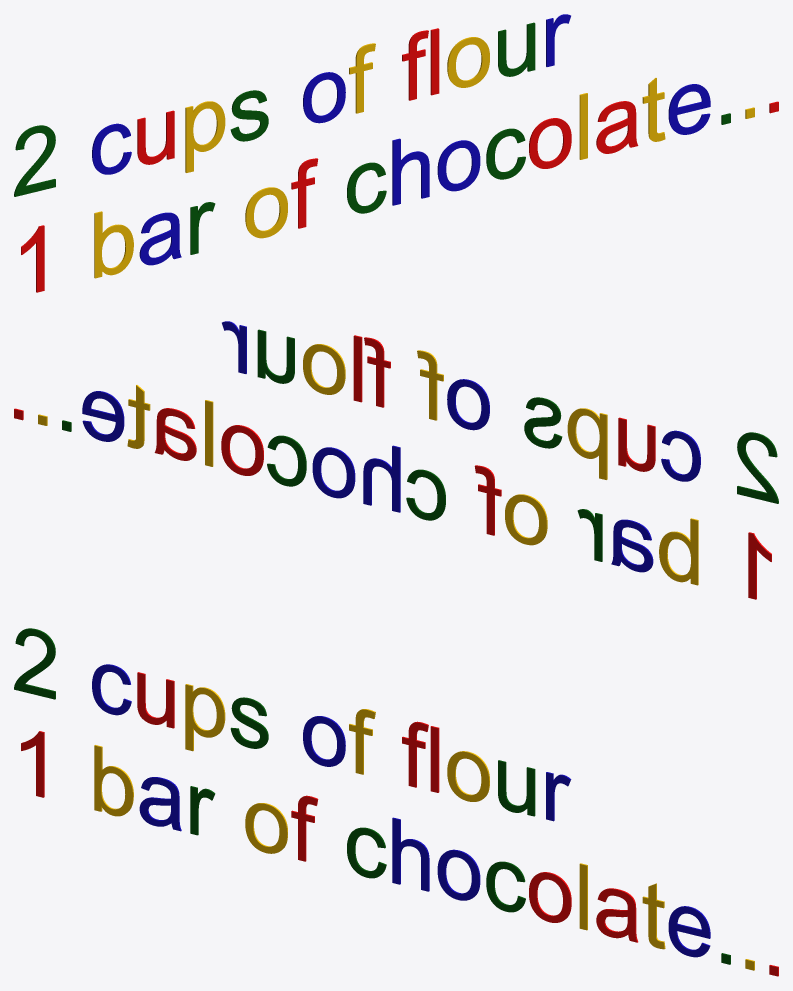
The model's file is Recipe.FBX.
3 renders of one model, top to bottom at view 1: azimuth 30°, elevation 25°; view 2: azimuth 150°, elevation 25°; view 3: azimuth 330°, elevation 25°, orthographic.
Parts seen in each view (by area): view 1: Group001, p1, b1, a2, a1, e1, h1, o4, o1, o2, o3, o5 (+14 smaller); view 2: Group001, p1, b1, a2, a1, e1, h1, o4, o1, o2, o3, o5 (+14 smaller); view 3: Group001, p1, b1, a2, a1, e1, h1, o4, o5, o2, o1, o3 (+11 smaller).
Boxes of the visible parts, x1,y1,x2,y2 form: Group001: (14,101,778,292); p1: (185,101,225,172); b1: (94,211,133,278); a2: (596,101,638,153); a1: (139,212,181,265); e1: (668,84,710,134); h1: (392,138,429,205); o4: (437,140,480,191); o1: (303,72,345,123); o2: (447,37,489,87); o3: (245,187,287,238); o5: (529,118,571,168); Group001: (14,408,778,599); p1: (567,408,607,479); b1: (659,518,698,585); a2: (154,408,196,460); a1: (611,519,653,572); e1: (82,391,124,441); h1: (363,445,400,512); o4: (312,447,355,498); o1: (447,379,489,430); o2: (303,344,345,394); o3: (505,494,547,545); o5: (221,425,263,475); Group001: (14,628,778,976); p1: (185,684,225,751); b1: (94,745,133,816); a2: (596,888,638,942); a1: (139,777,181,831); e1: (668,906,710,957); h1: (392,817,429,891); o4: (437,849,480,900); o5: (529,872,571,922); o2: (447,751,489,801); o1: (303,716,345,766); o3: (245,803,287,853).
Size of the model in its own units: 475 by 1 by 99.72.
